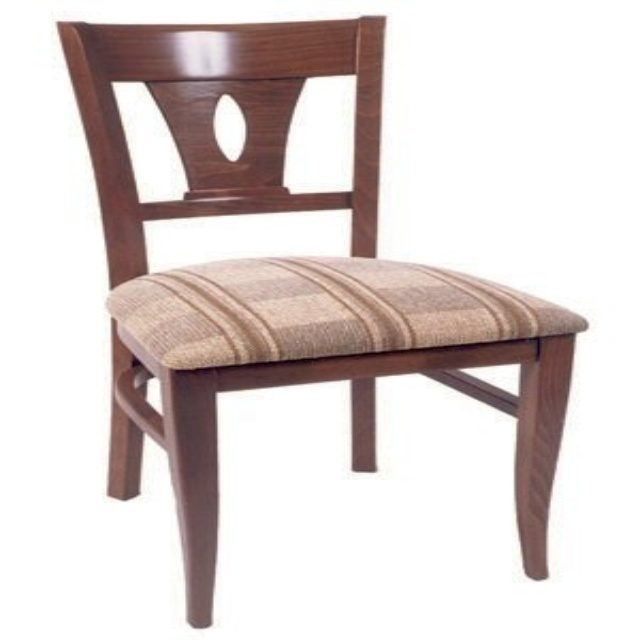obstacle: (58, 16, 585, 626)
